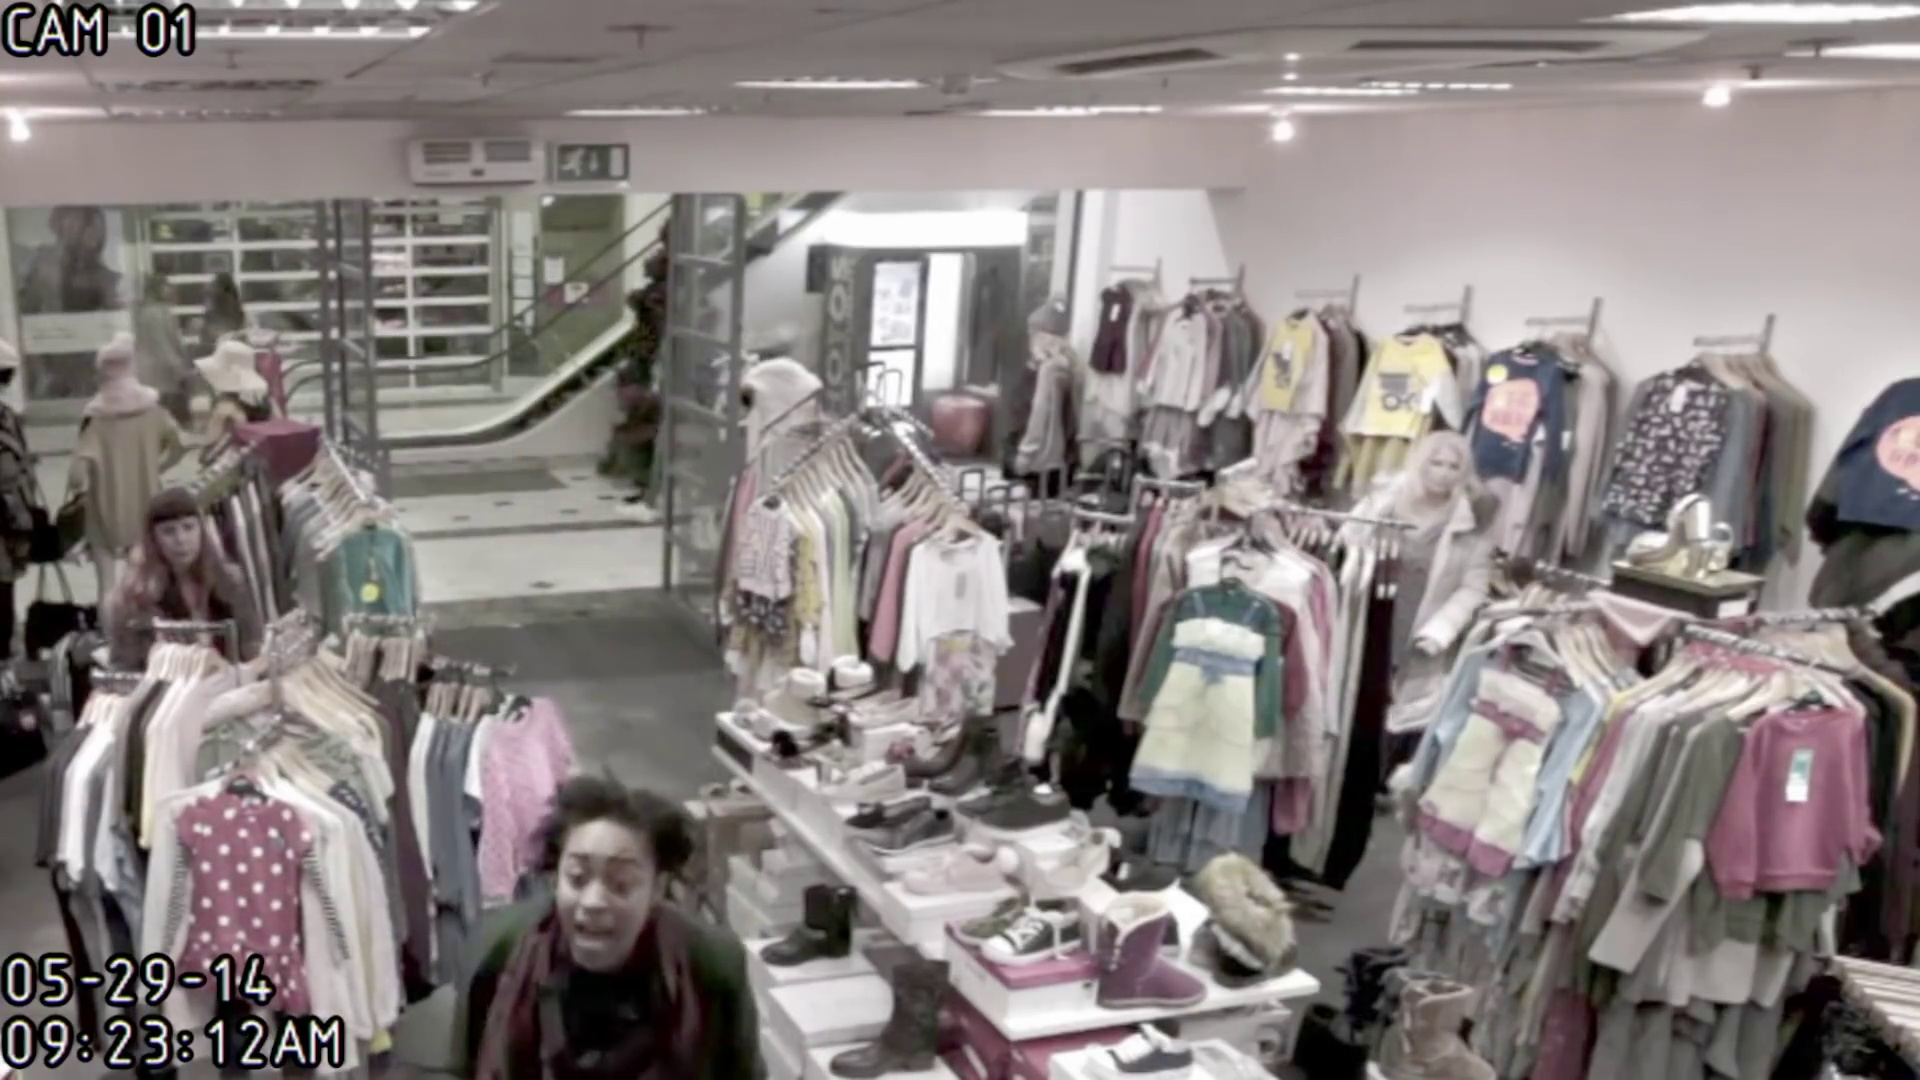face: (547, 826, 654, 974), (151, 509, 204, 565), (1417, 446, 1464, 496)
